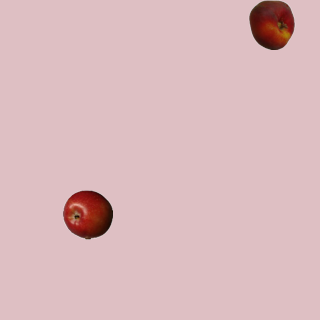Apple Braeburn: (62, 189, 112, 239)
Nectarine Flat: (246, 0, 296, 49)
